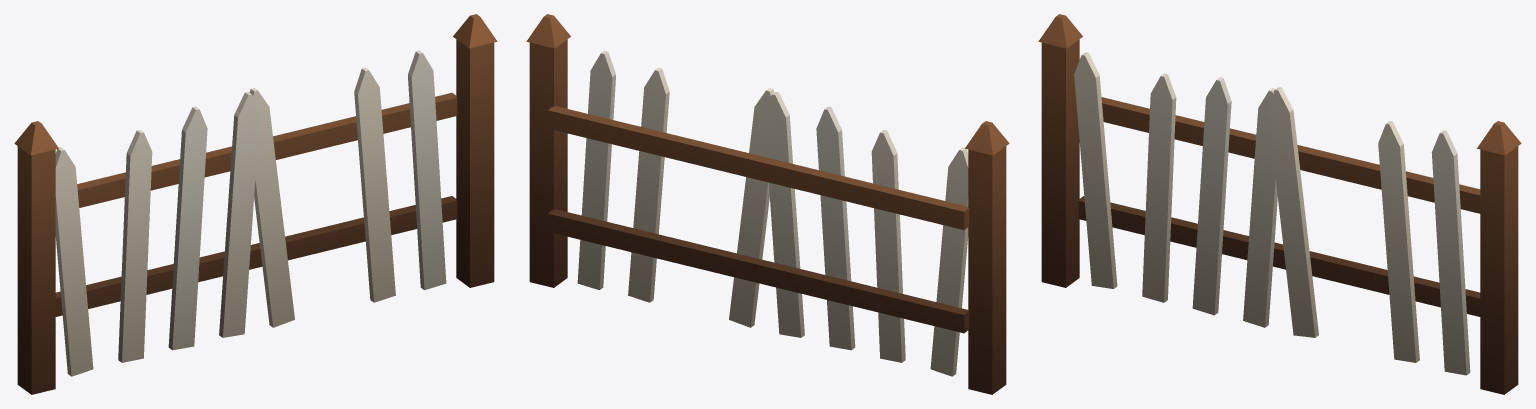
File: PlayGround_Kit_Fence_Picket.fbx
The picture shows the model from 3 angles, left to right: view 1: azimuth 30°, elevation 25°; view 2: azimuth 150°, elevation 25°; view 3: azimuth 330°, elevation 25°; orthographic projection.
Visible parts, largest first — view 1: PlayGround_Kit_Fence_Picket; view 2: PlayGround_Kit_Fence_Picket; view 3: PlayGround_Kit_Fence_Picket.
Part boxes in pixels (left/top/right/bottom): PlayGround_Kit_Fence_Picket: left=14, top=14, right=497, bottom=394; PlayGround_Kit_Fence_Picket: left=526, top=14, right=1009, bottom=394; PlayGround_Kit_Fence_Picket: left=1038, top=14, right=1521, bottom=394.
Size of the model in its own units: 2.13 by 1.15 by 0.16.
